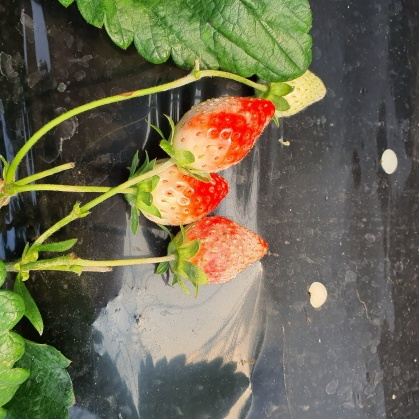Powdery_Fruit: (143, 162, 250, 323), (149, 134, 253, 261)
